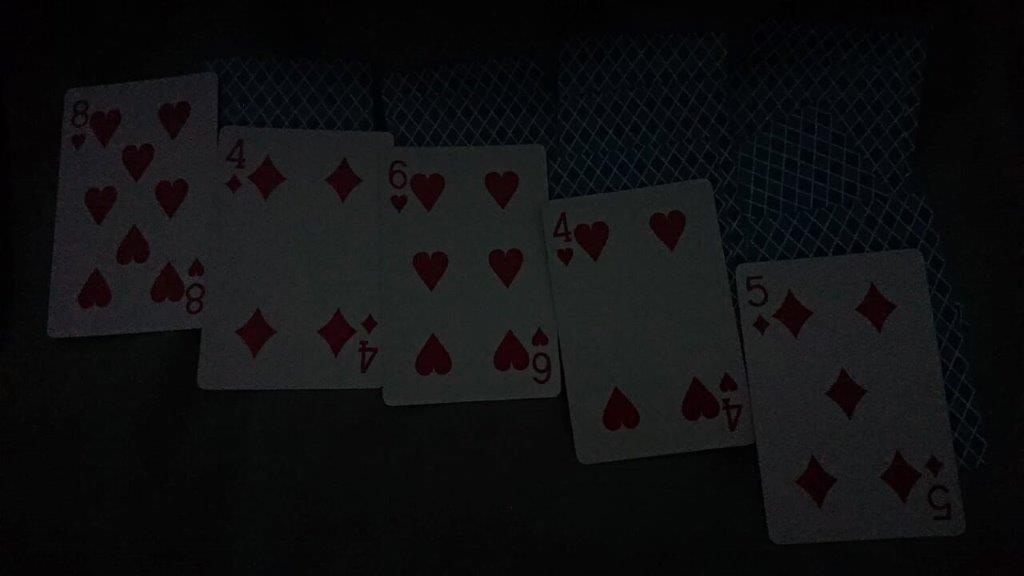4D: (221, 130, 253, 205)
4H: (547, 208, 590, 278)
5D: (739, 268, 783, 344)
6H: (383, 152, 418, 222)
8H: (65, 93, 101, 154)
BACK: (739, 103, 891, 189), (747, 189, 941, 248), (221, 56, 375, 126), (555, 75, 734, 132), (384, 88, 555, 144), (551, 132, 731, 178), (554, 32, 729, 74), (739, 65, 922, 102), (738, 31, 927, 65), (384, 56, 551, 88)
